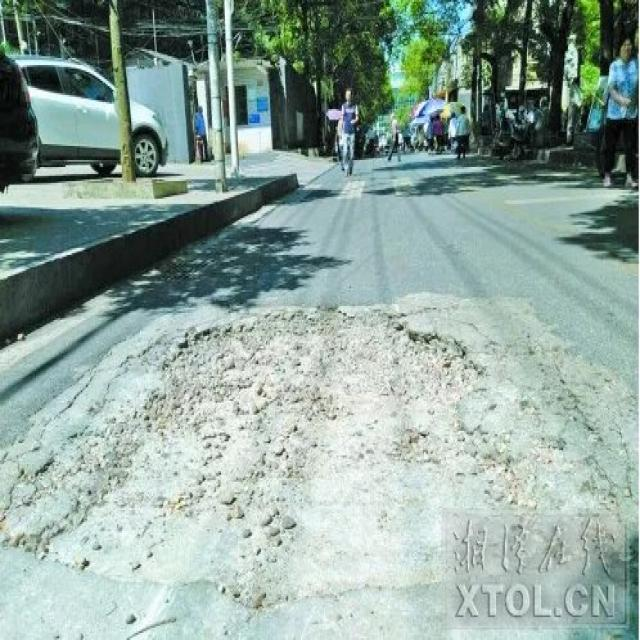Pothole: (1, 308, 634, 612)
